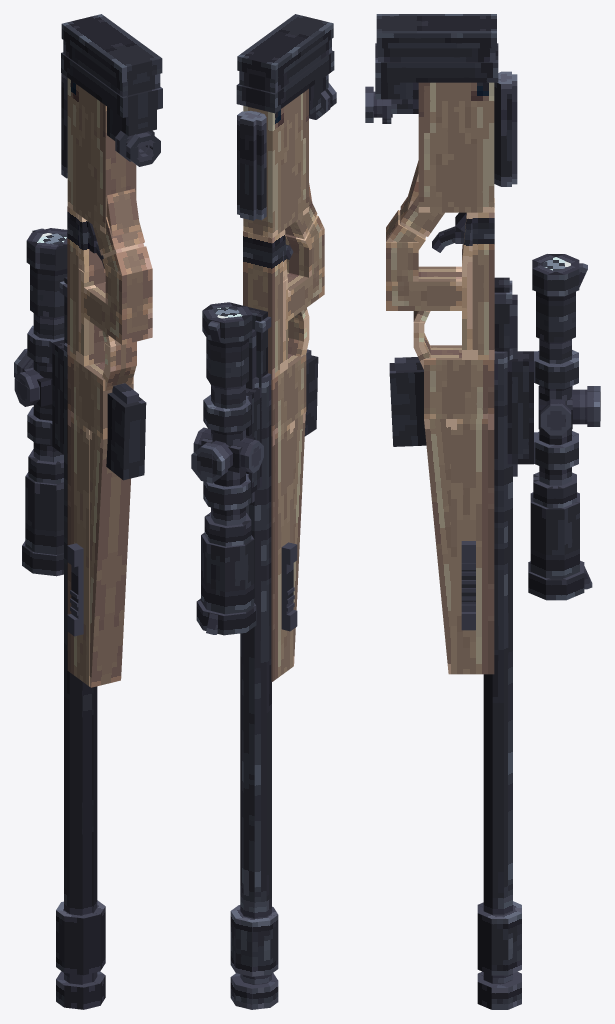
File: awp.gltf
3 views of the same model, side by side, from view 1: azimuth 30°, elevation 25°; view 2: azimuth 150°, elevation 25°; view 3: azimuth 270°, elevation 25° (orthographic). The views are drawn at different scales.
Visible parts, largest first — view 1: cube (×50); view 2: cube (×49); view 3: cube (×37).
Part boxes in pixels (x1,y1,x2,y2): cube (×50): (23,14,162,1009); cube (×49): (200,14,334,1009); cube (×37): (375,14,579,975).
Size of the model in its own units: 0.1527 by 2.46 by 0.538.
Materials: 1 (1 with a texture image).
